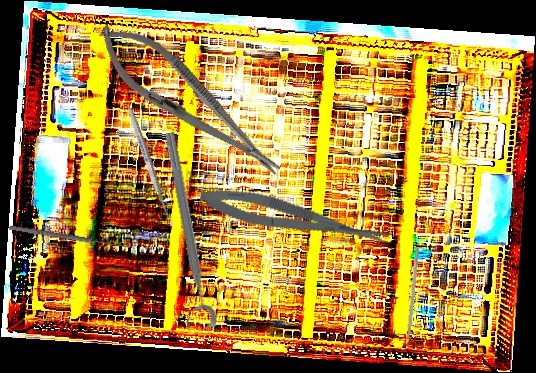Chopper: (399, 245, 420, 356)
Fixation Ring: (148, 130, 219, 333)
Hook Surgical: (8, 219, 131, 251)
Micro Scissor: (196, 178, 395, 259)
Needle Holder: (84, 8, 295, 195)
Surgical Spoon: (126, 107, 174, 227)
